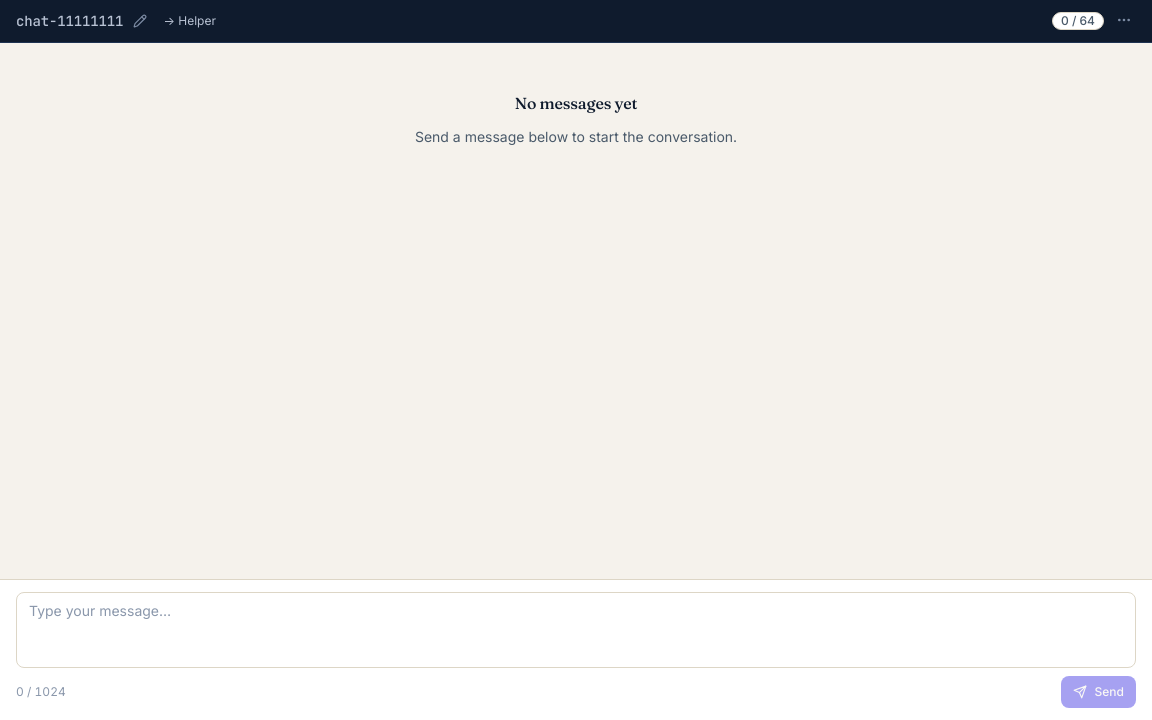
Test: ConversationView — streaming integration (US-07-005) › mid-stream MCP_SERVER_ERROR: partial bubble greyed + Tool server error toast
The image size is (1152, 720).
Type "hi" into the text box with test id "composer-textarea" at {"x": 576, "y": 630}, box [16,592,1136,668]
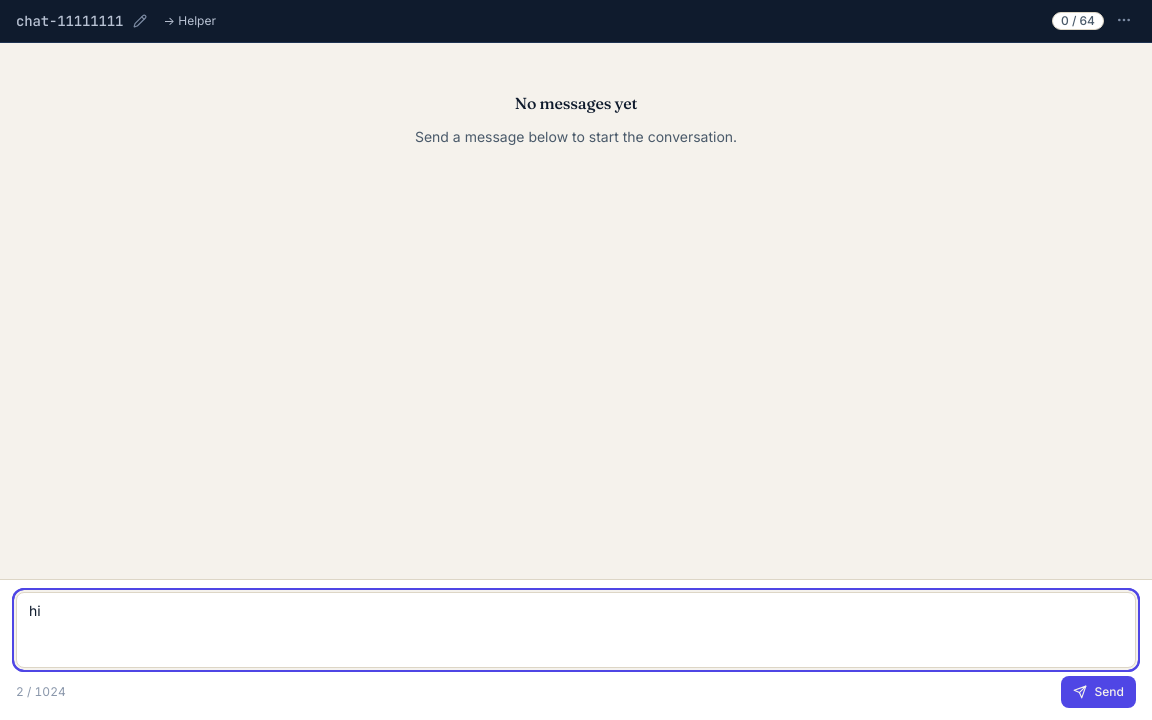
Type keys "{Control>}{Enter}{/Control}"
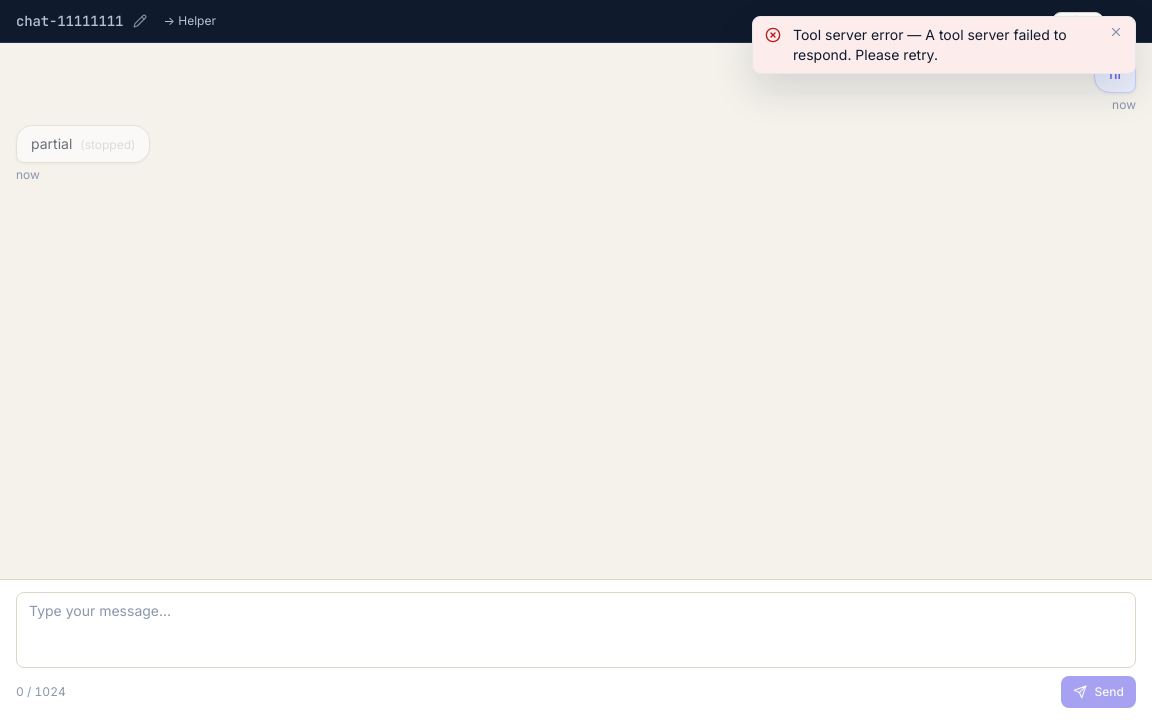
Expected: the element with test id "toast-error" is shown, [752,16,1136,74]
Expected: the element with test id "toast-error" shows "Tool server error", [793,26,1067,63]
Expected: the text "(stopped)" is shown, [80,137,135,152]
